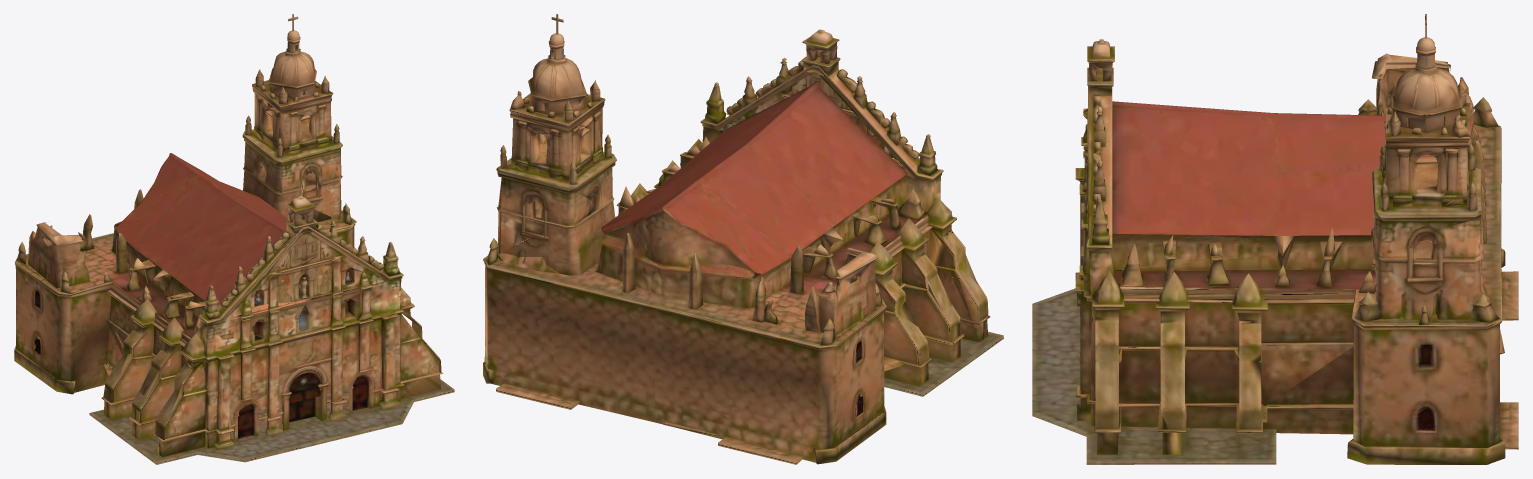
The model's file is baroque-church.glb.
3 views of the same model, side by side, from view 1: azimuth 30°, elevation 25°; view 2: azimuth 150°, elevation 25°; view 3: azimuth 270°, elevation 25° (orthographic). The views are drawn at different scales.
Visible parts, largest first — view 1: geometry_0; view 2: geometry_0; view 3: geometry_0.
Boxes of the visible parts, bbox=[...] form: geometry_0: bbox=[14, 14, 454, 464]; geometry_0: bbox=[483, 14, 1003, 464]; geometry_0: bbox=[1032, 14, 1518, 464].
Size of the model in its own units: 0.9467 by 0.9097 by 0.9482.
1 material, 1 textured.
